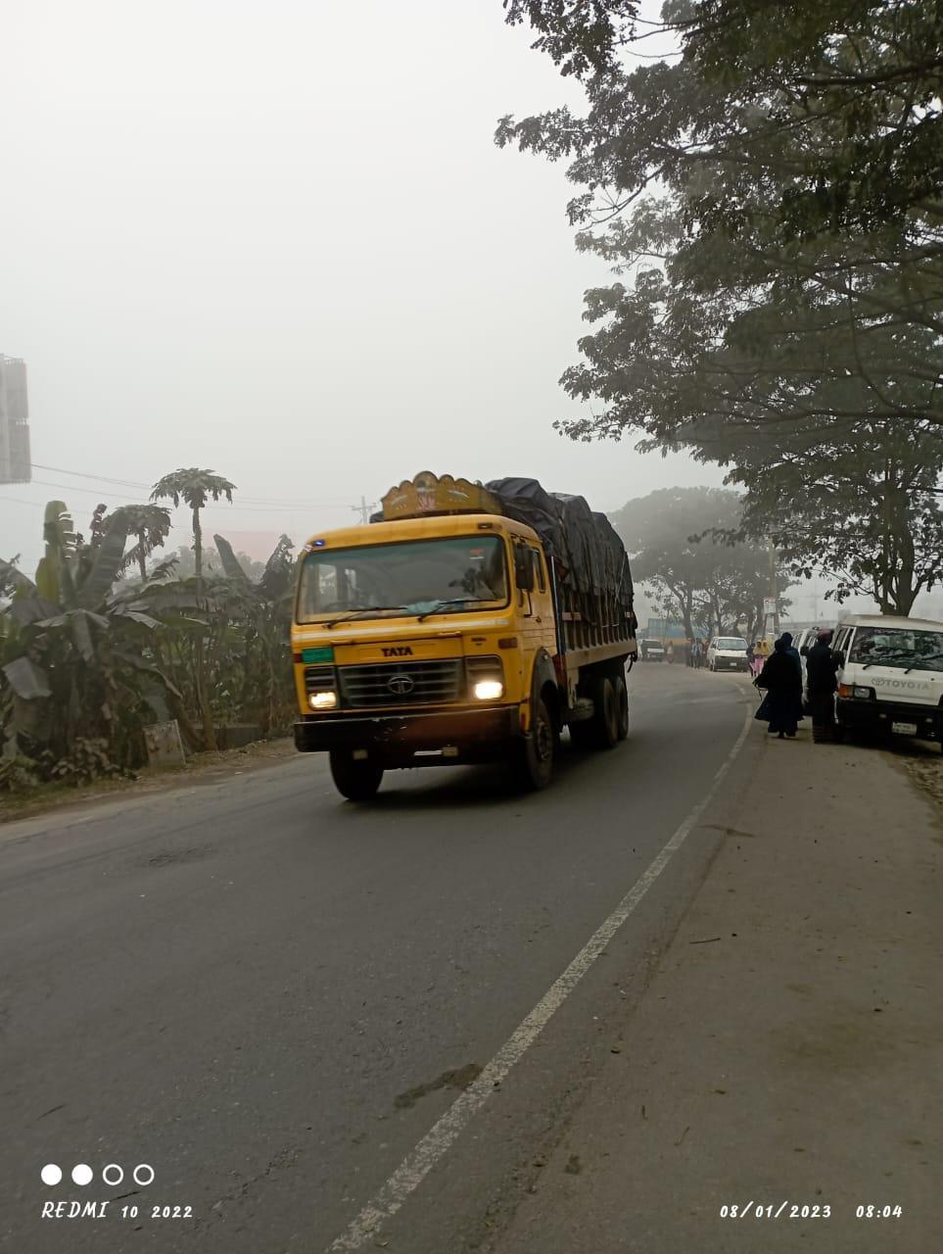Car: (824, 606, 943, 751), (702, 630, 753, 677)
Truck: (267, 470, 646, 787)
